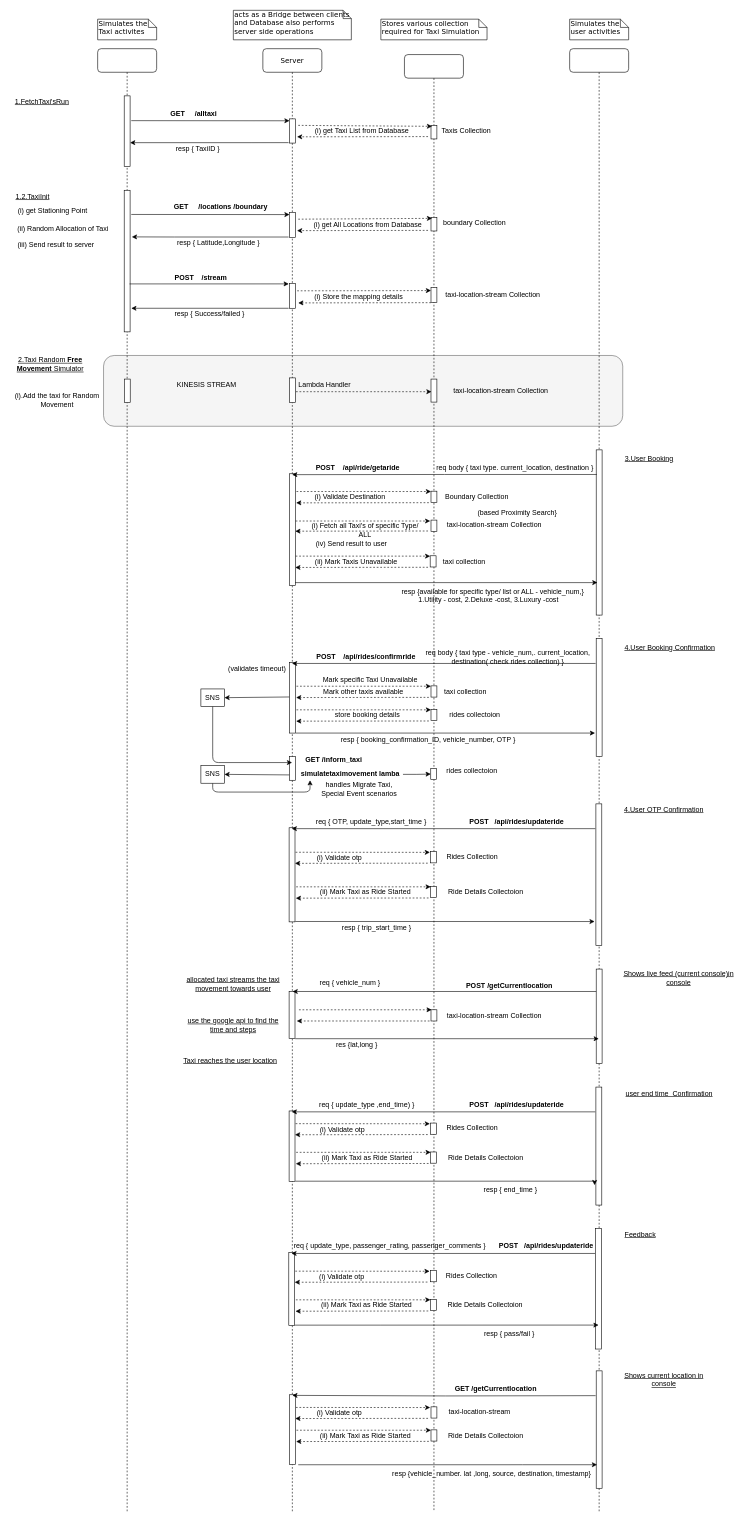
Image size: 751x1522. Some labels were removed from this diagram. Here are the shapes that lost their labels. From the top down, the box of each, then its label:
(97, 48, 157, 1512): Taxi Client
(404, 54, 463, 1512): Database
(569, 48, 629, 1512): User Client
